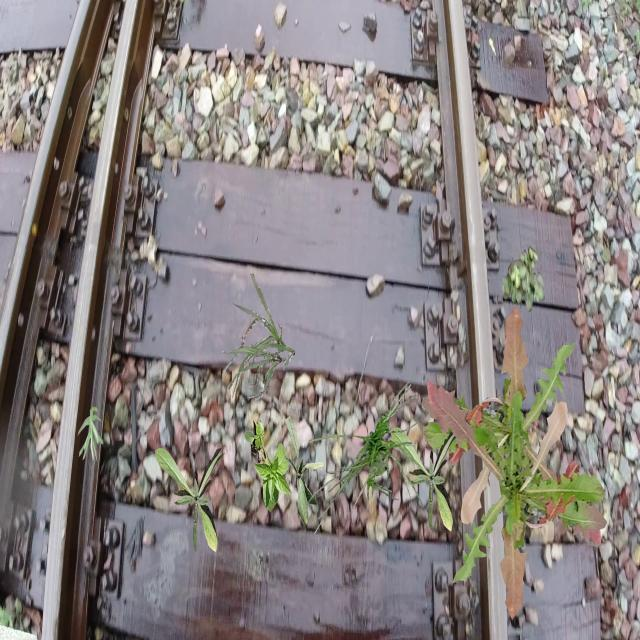Plant: (422, 343, 602, 621), (427, 305, 607, 583), (307, 372, 426, 536), (222, 274, 295, 398), (390, 425, 462, 533), (155, 446, 226, 554), (245, 418, 293, 513), (284, 416, 324, 526), (502, 246, 546, 312), (77, 406, 104, 462)
